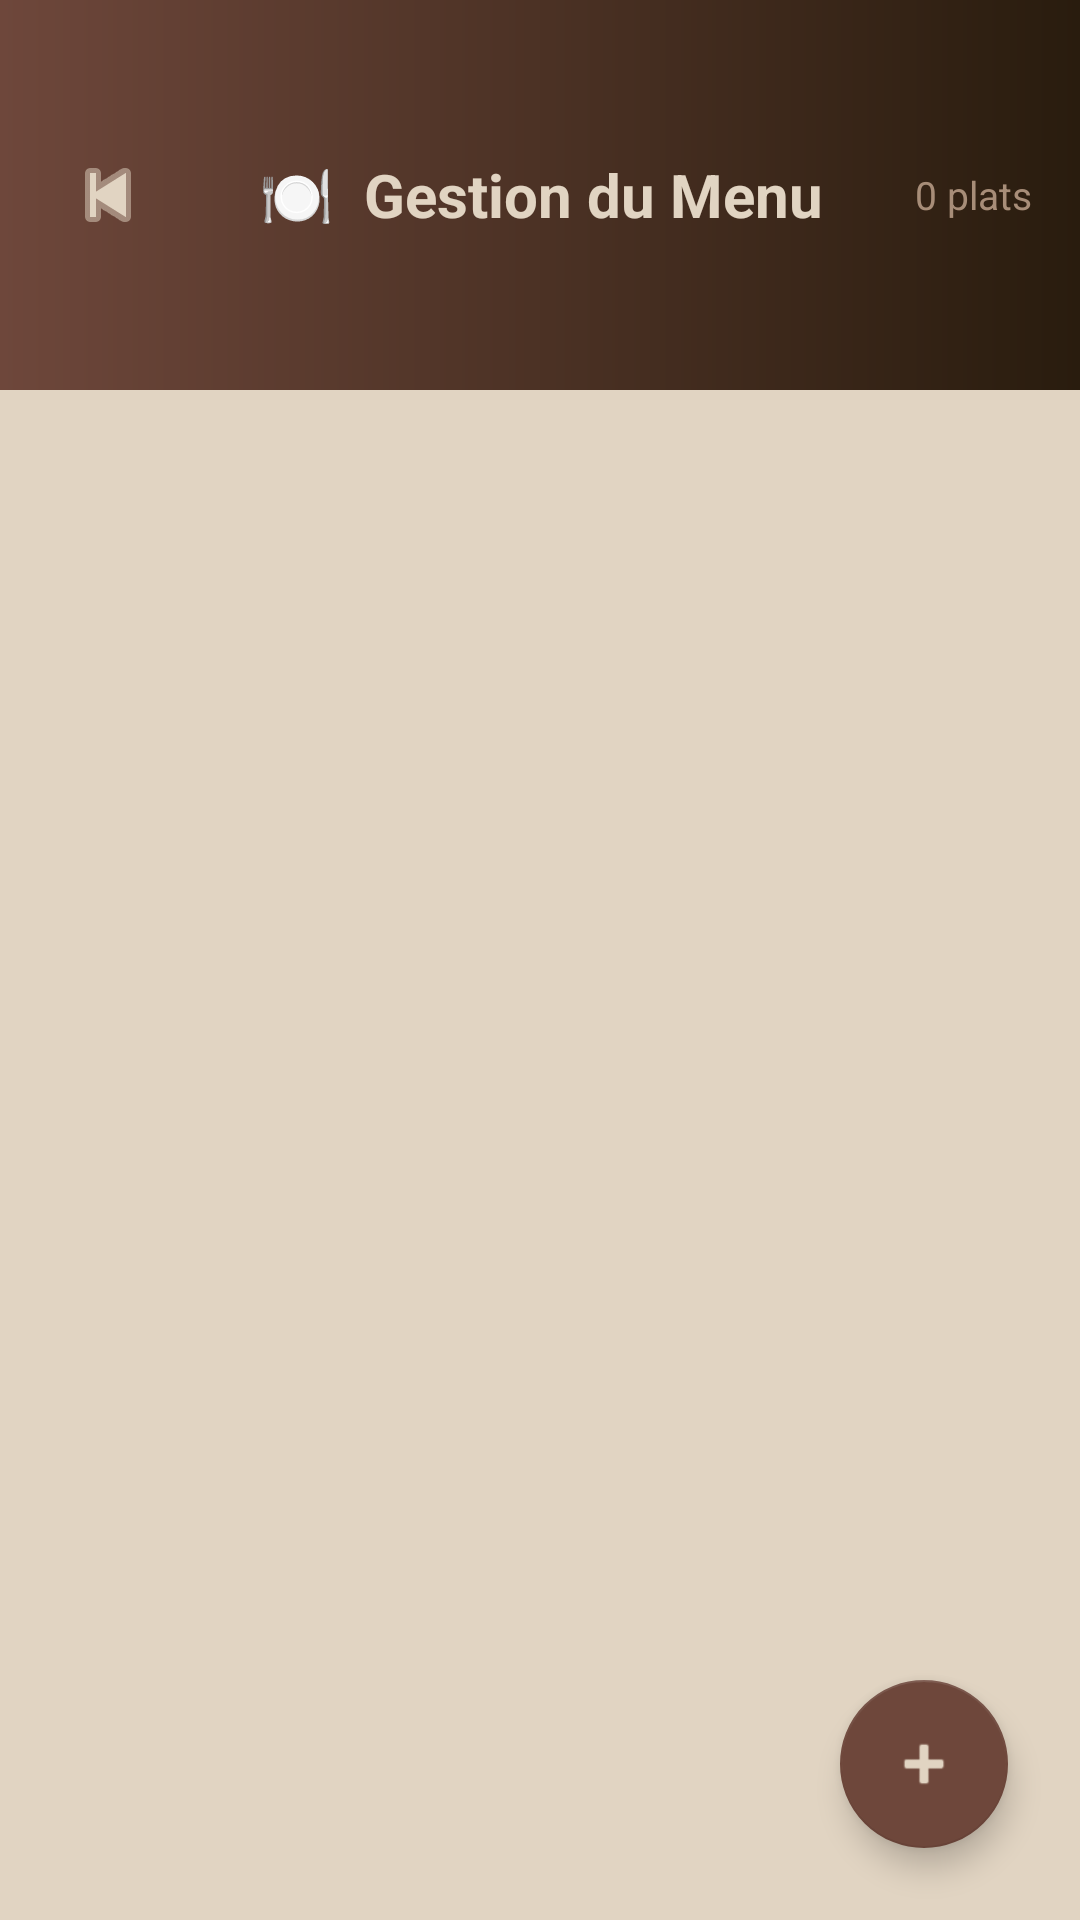

Screen size 1080px×1920px. Icon name, then its box in pixels as detection(x1, y1, x2, y2):
add: detection(840, 1680, 1008, 1848)
previous: detection(85, 168, 131, 222)
